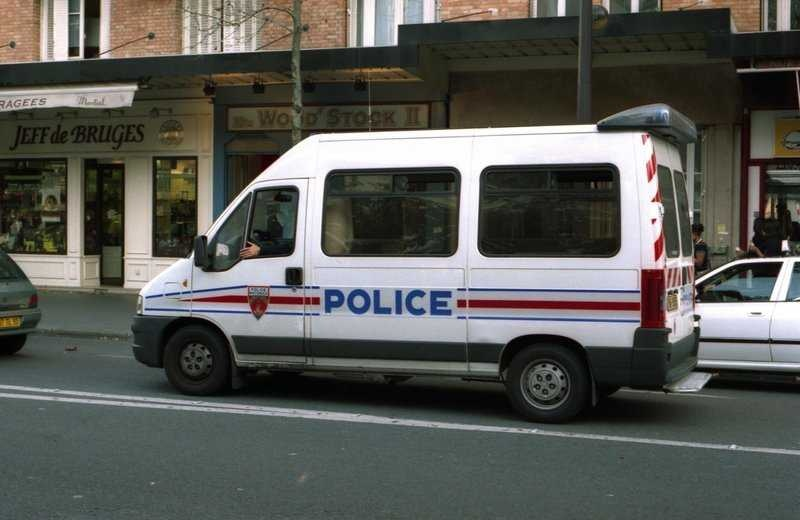Police Van: (144, 122, 731, 425)
